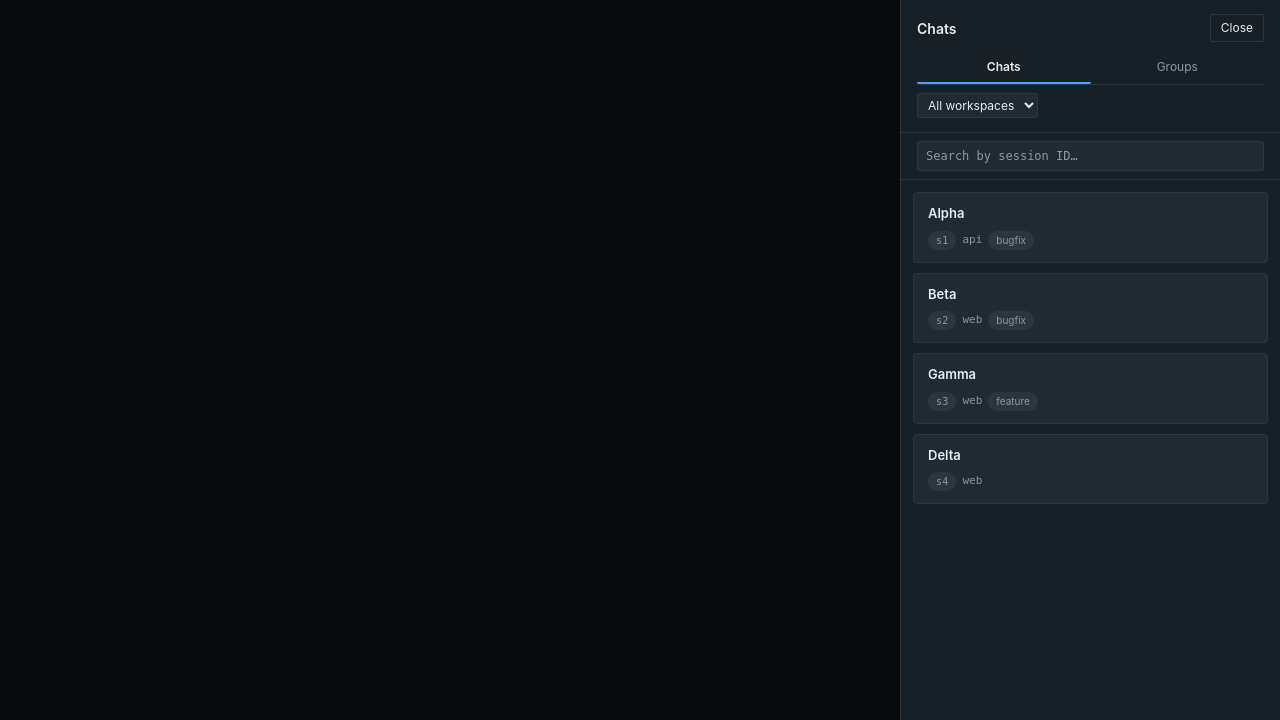
Test case: <ChatsDrawer> › Groups tab › ignores Chats-tab workspace/backend/search filters when bucketing the Groups tab
The image size is (1280, 720).
Narrow the Chats tab to a single workspace ("api") while still on the Chats tab.
Select "api" in the dropdown named "workspace" at (978, 106), box [917,93,1038,118]
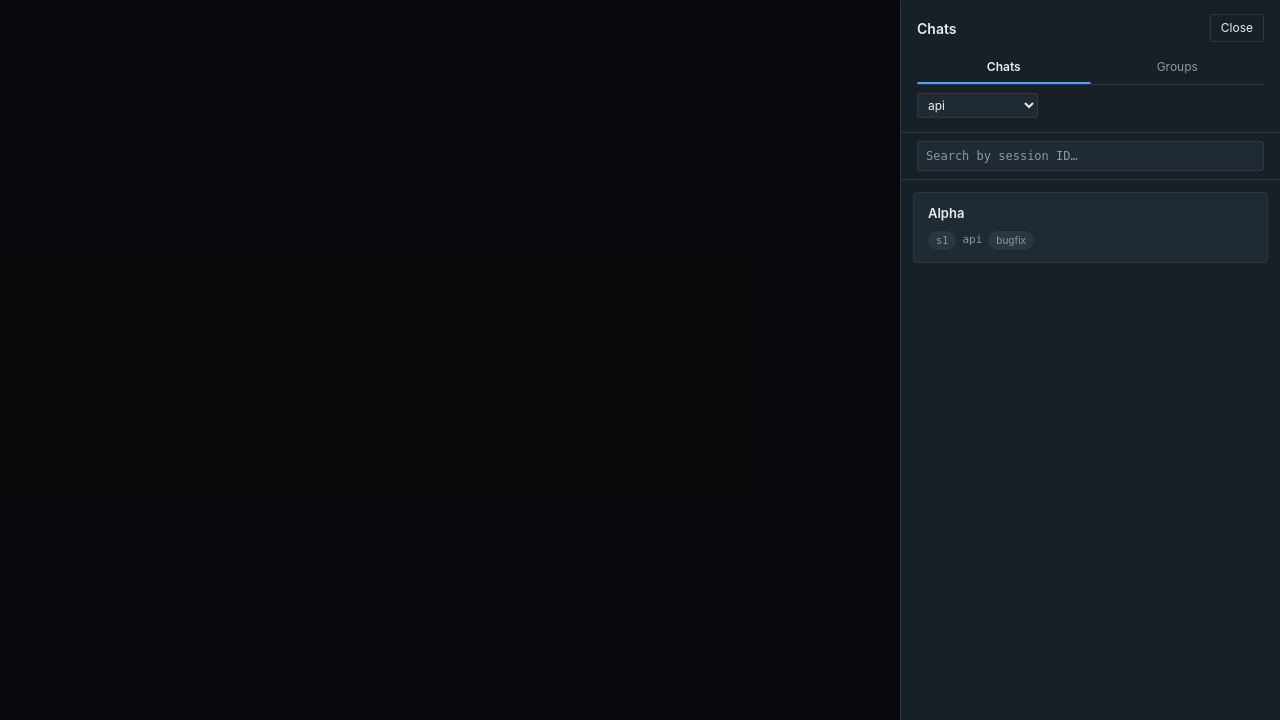
Expected: the text "Alpha" is shown, [928,205,964,222]
Expected: the text "Beta" is gone
Switch to Groups tab: bucketing must ignore the workspace filter above.
Click the button "Groups".
click(1177, 68)  # box [1090,52,1264,84]
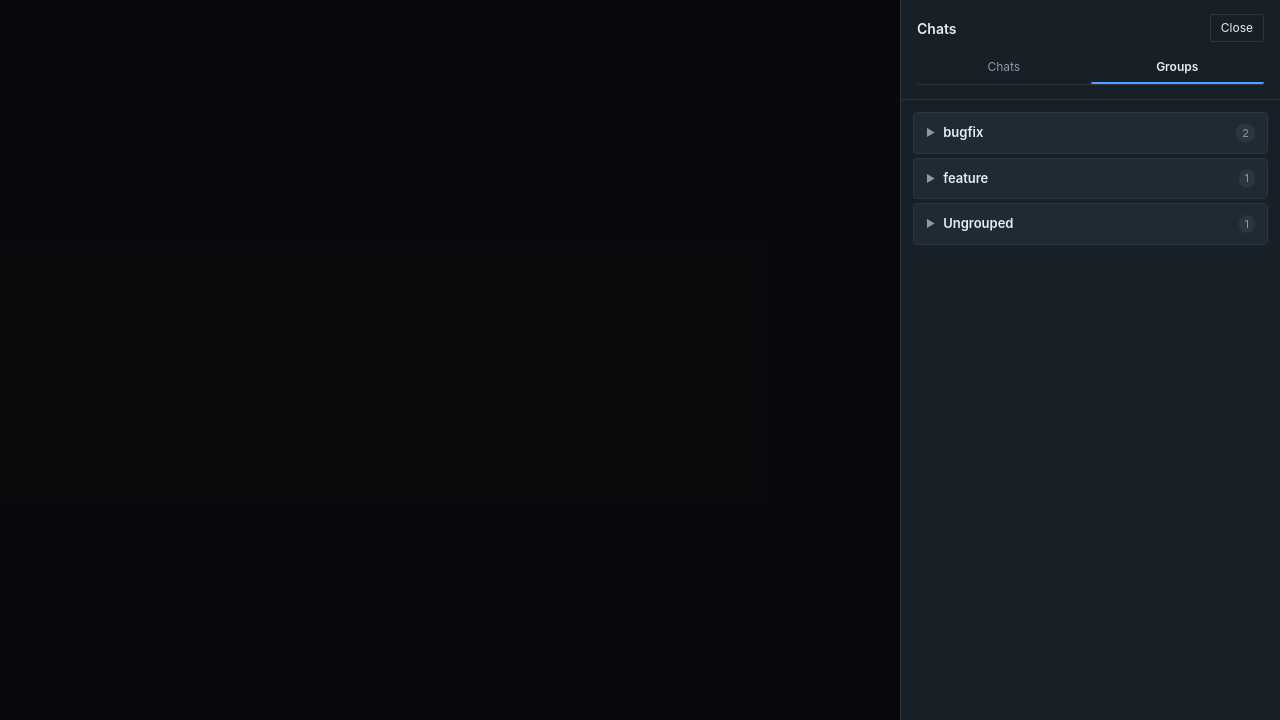
Click the text "bugfix".
click(963, 132)  # box [943,124,983,140]
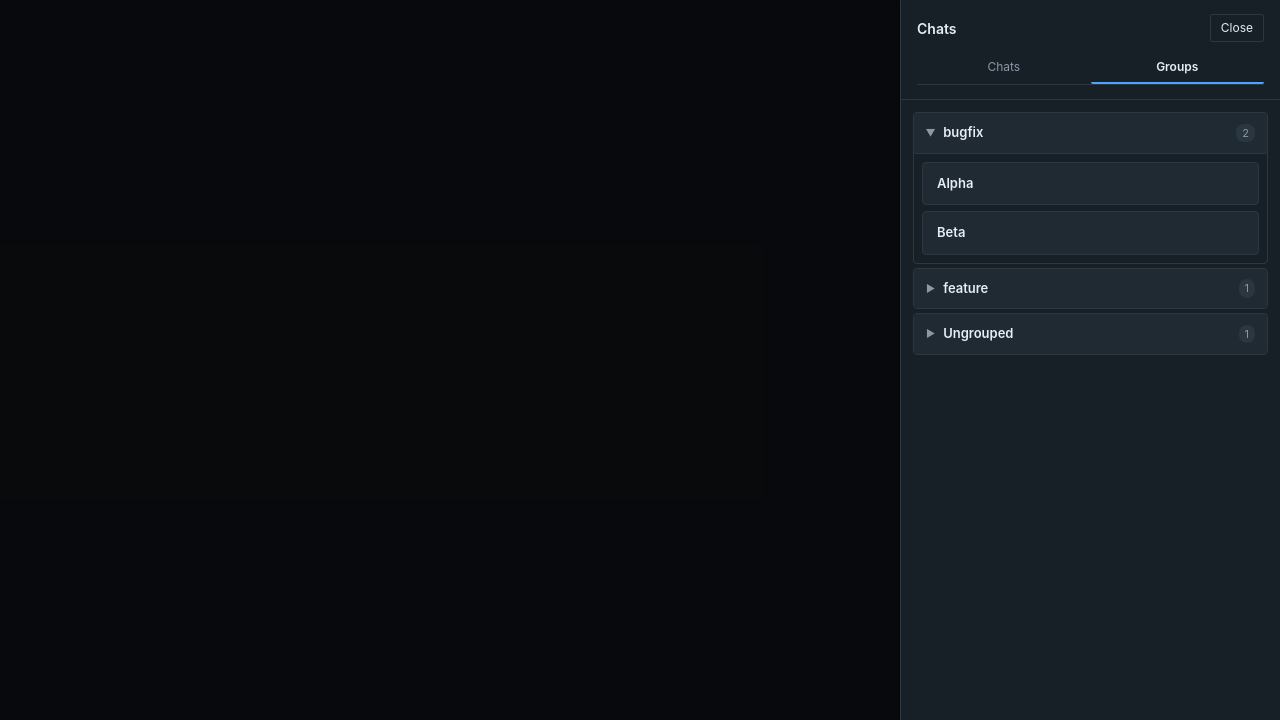
Expected: the text "Alpha" is shown, [937,174,973,192]
Expected: the text "Beta" is shown, [937,224,965,242]
Click the text "feature".
click(966, 288)  # box [943,280,988,296]
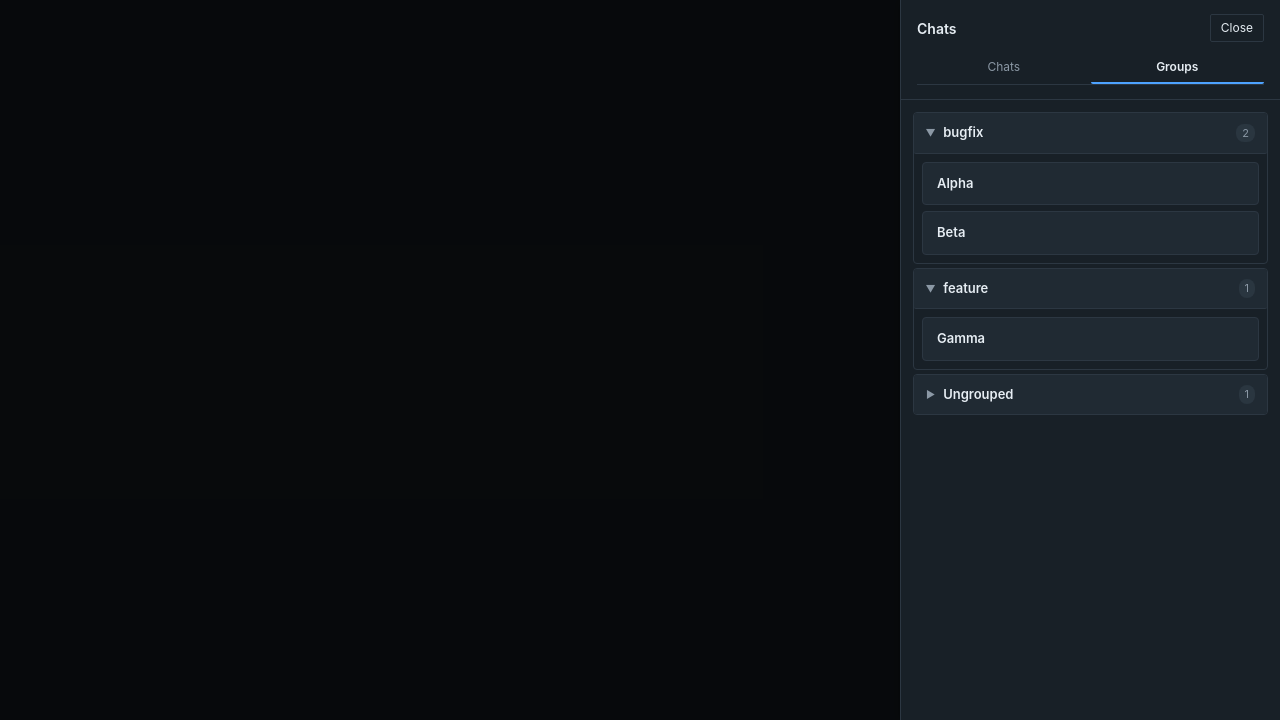
Expected: the text "Ungrouped" is shown
Expected: the text "Gamma" is shown, [937,330,985,348]
Click the text "Ungrouped".
click(978, 394)  # box [943,386,1014,402]
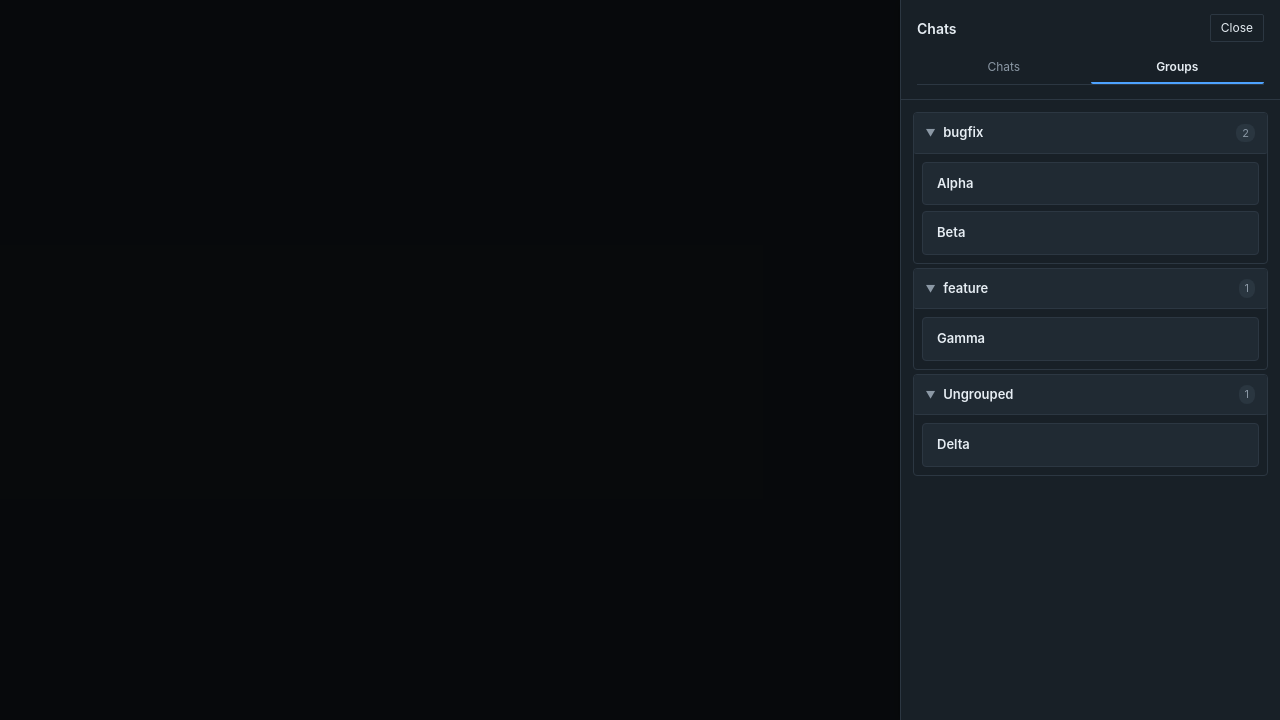
Expected: the text "Delta" is shown, [937,436,970,454]
